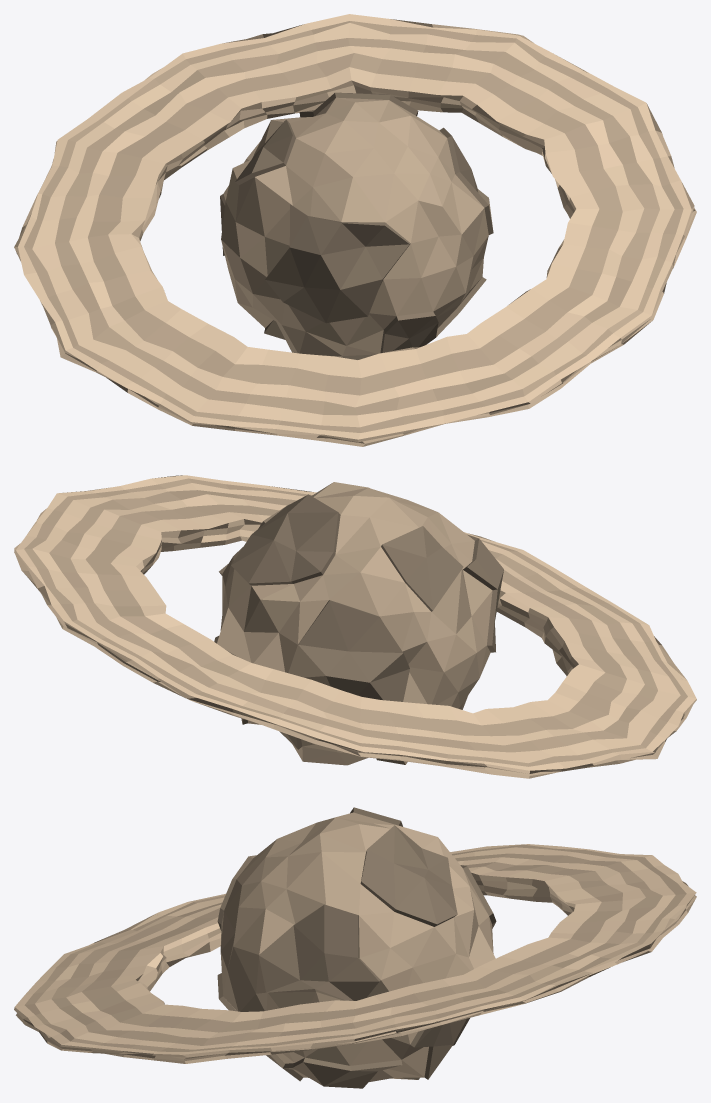
The model's file is Saturn_7.fbx.
3 renders of one model, top to bottom at view 1: azimuth 30°, elevation 25°; view 2: azimuth 150°, elevation 25°; view 3: azimuth 270°, elevation 25°, orthographic. The views are drawn at different scales.
Visible parts, largest first — view 1: Icosphere.004; view 2: Icosphere.004; view 3: Icosphere.004.
Boxes of the visible parts, x1,y1,x2,y2 form: Icosphere.004: (14,14,696,446); Icosphere.004: (14,475,696,778); Icosphere.004: (14,807,696,1088).
Size of the model in its own units: 1503 by 609 by 1490.
